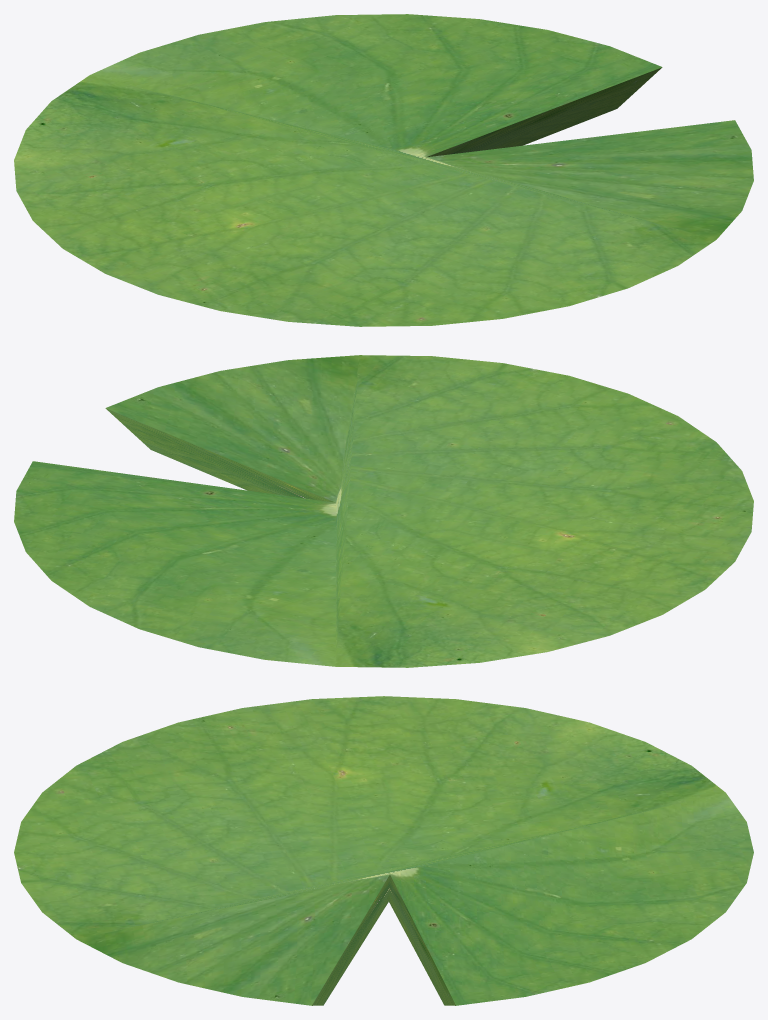
The model's file is Lotus_leaf.fbx.
3 views of the same model, one above another, from view 1: azimuth 30°, elevation 25°; view 2: azimuth 150°, elevation 25°; view 3: azimuth 270°, elevation 25° (orthographic).
Parts seen in each view (by area): view 1: Circle; view 2: Circle; view 3: Circle.
Boxes of the visible parts, x1,y1,x2,y2 form: Circle: [14, 14, 753, 326]; Circle: [14, 355, 753, 667]; Circle: [14, 696, 753, 1005].
Bounding box in the file's own units: 404 × 15.05 × 408.
Materials: 1 (1 with a texture image).
